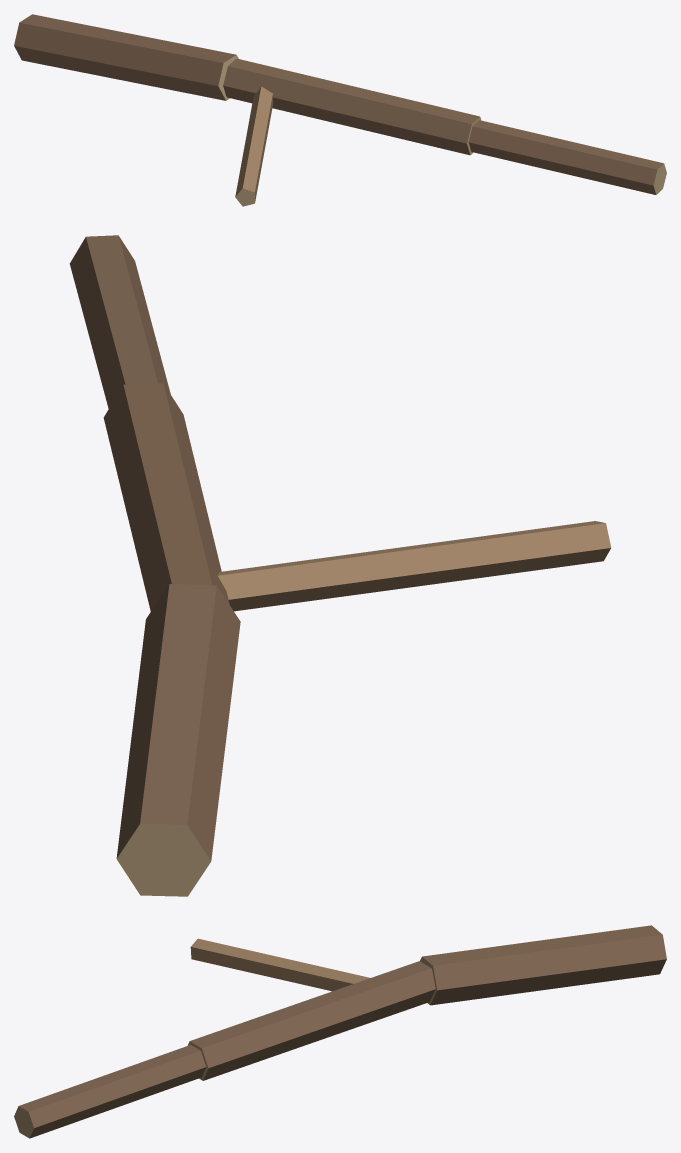
Rendered from debris_branch_b.glb.
The picture shows the model from 3 angles, top to bottom: view 1: azimuth 30°, elevation 25°; view 2: azimuth 150°, elevation 25°; view 3: azimuth 270°, elevation 25°; orthographic projection. The views are drawn at different scales.
Parts seen in each view (by area): view 1: debris_branch_b; view 2: debris_branch_b; view 3: debris_branch_b.
Boxes of the visible parts, x1,y1,x2,y2 form: debris_branch_b: (14, 14, 666, 206); debris_branch_b: (69, 235, 611, 896); debris_branch_b: (14, 925, 666, 1138).
Size of the model in its own units: 0.4578 by 0.0649 by 0.6822.
